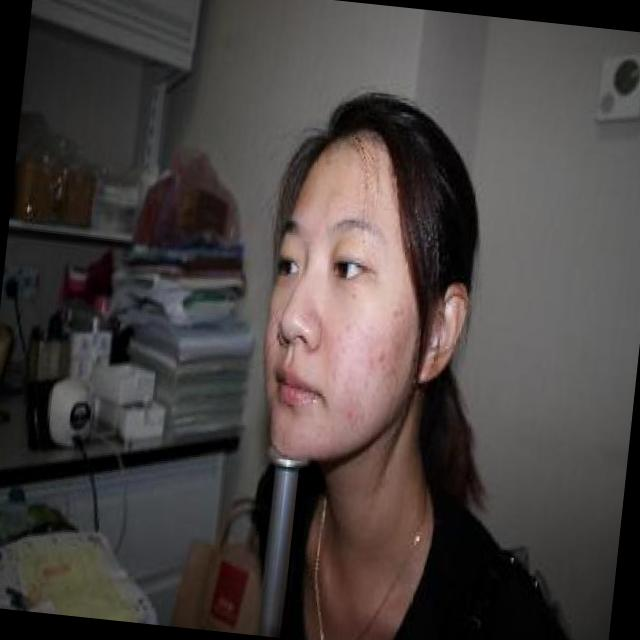darkspot: (390, 308, 400, 318), (400, 306, 405, 316)
nodules: (379, 348, 388, 364), (338, 333, 347, 343), (345, 322, 352, 332), (308, 410, 316, 418), (319, 424, 326, 432), (300, 434, 307, 442), (342, 347, 348, 354), (348, 374, 352, 381)
